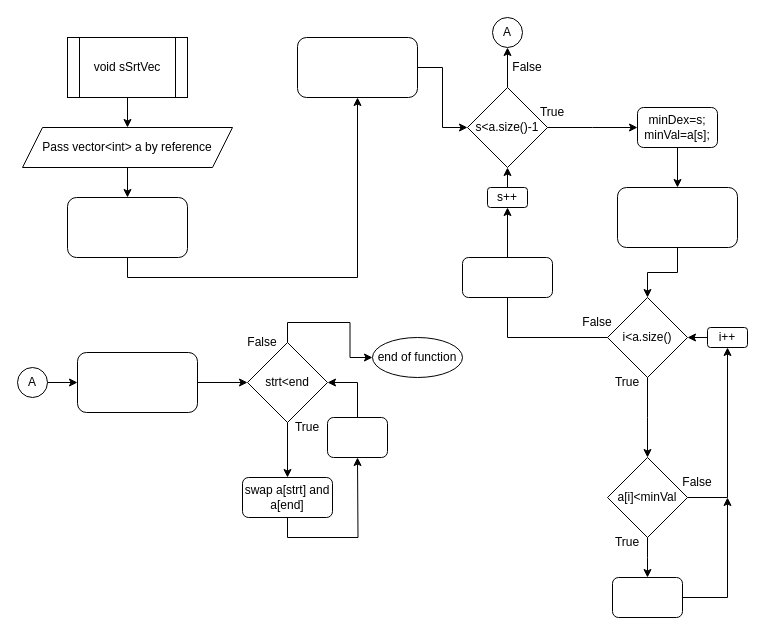
This 765x635 diagram has some shape labels left out. Here are the shapes that lost their labels. From the top down, the centre of each, then its label:
At [357,67]: "Declare/initialize inside for loop: s=0".
At [127,227]: "Declare ints minDex, minVal".
At [677,217]: "Declare/initialize inside for loop: i=s+1".
At [507,277]: "swap a[s] and a[minDex]".
At [137,382]: "Declare/initialize: int strt=0, end=a.size()-1".
At [357,437]: "strt++ end--".
At [647,597]: "minVal=a[i] minDex=i".
